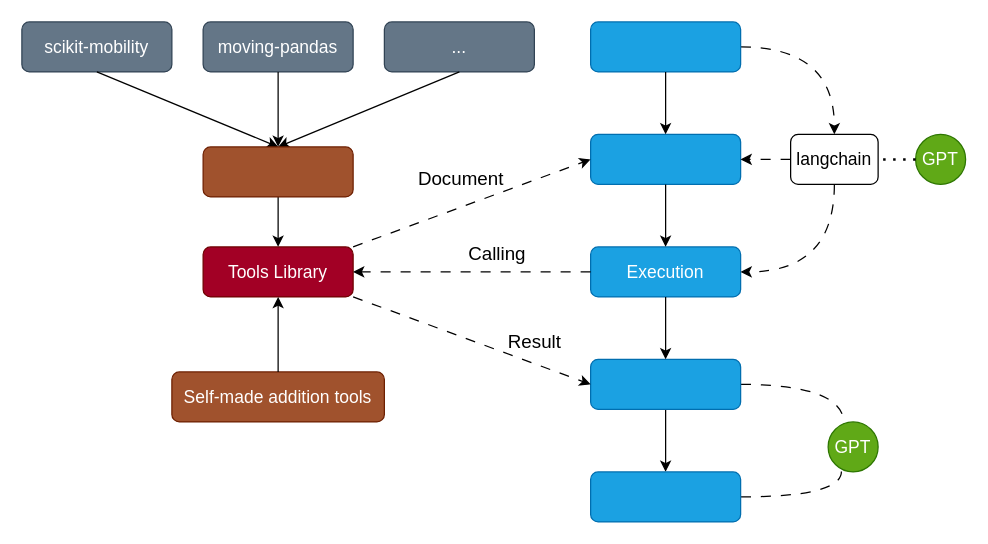
Image size: 988x544. Some labels were removed from this diagram. Here are the shapes that lost their labels. From the top down, the centre of each, then its label:
point 665,46: Request Analysis
point 277,171: Encapsulating
point 665,158: Task Planning
point 665,383: Output
point 665,496: Reponse
